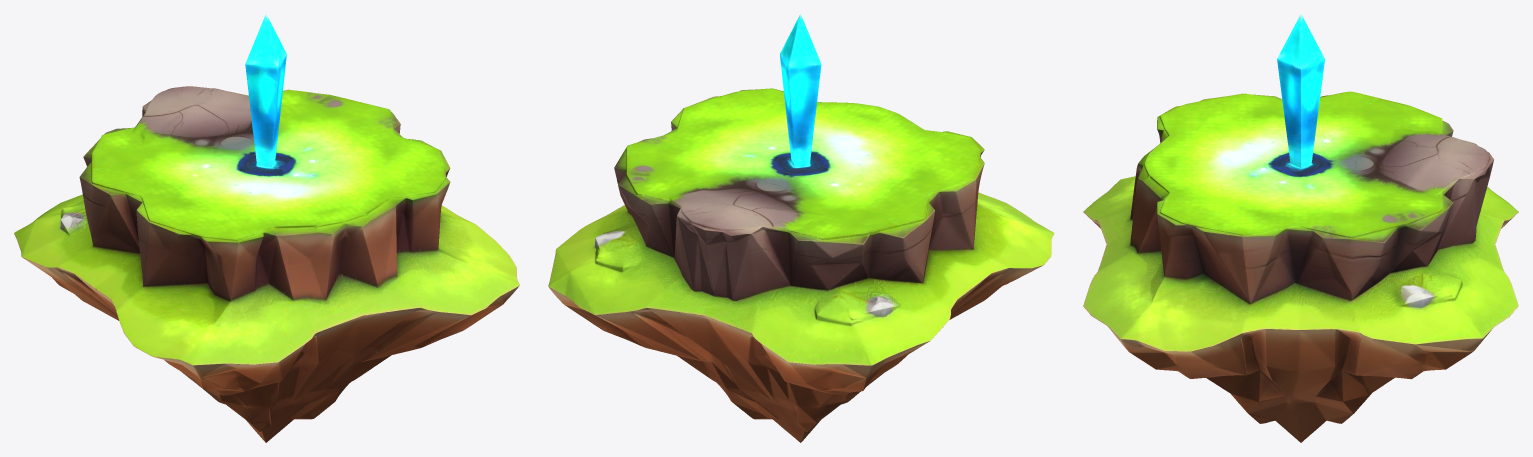
File: floating-island.glb
3 renders of one model, left to right at view 1: azimuth 30°, elevation 25°; view 2: azimuth 150°, elevation 25°; view 3: azimuth 270°, elevation 25°, orthographic.
Parts seen in each view (by area): view 1: Mesh_0; view 2: Mesh_0; view 3: Mesh_0.
Boxes of the visible parts, bbox=[...] form: Mesh_0: bbox=[14, 14, 519, 442]; Mesh_0: bbox=[548, 14, 1054, 442]; Mesh_0: bbox=[1083, 14, 1518, 442].
Bounding box in the file's own units: 6.87 × 7.5 × 6.91.
Materials: 1 (1 with a texture image).
